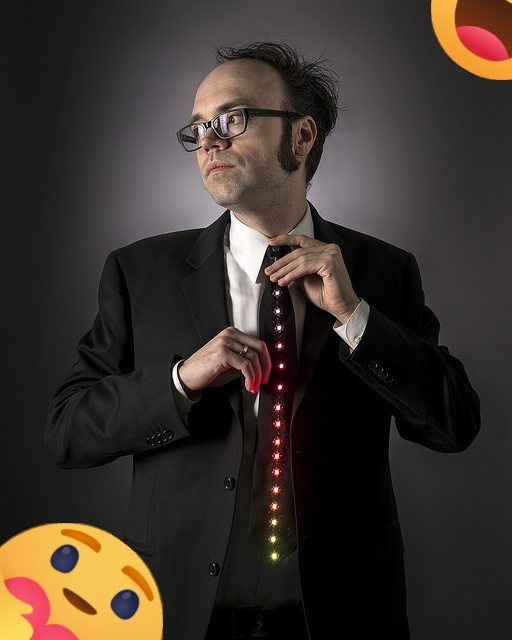care: (0, 523, 163, 640)
haha: (431, 0, 512, 80)
